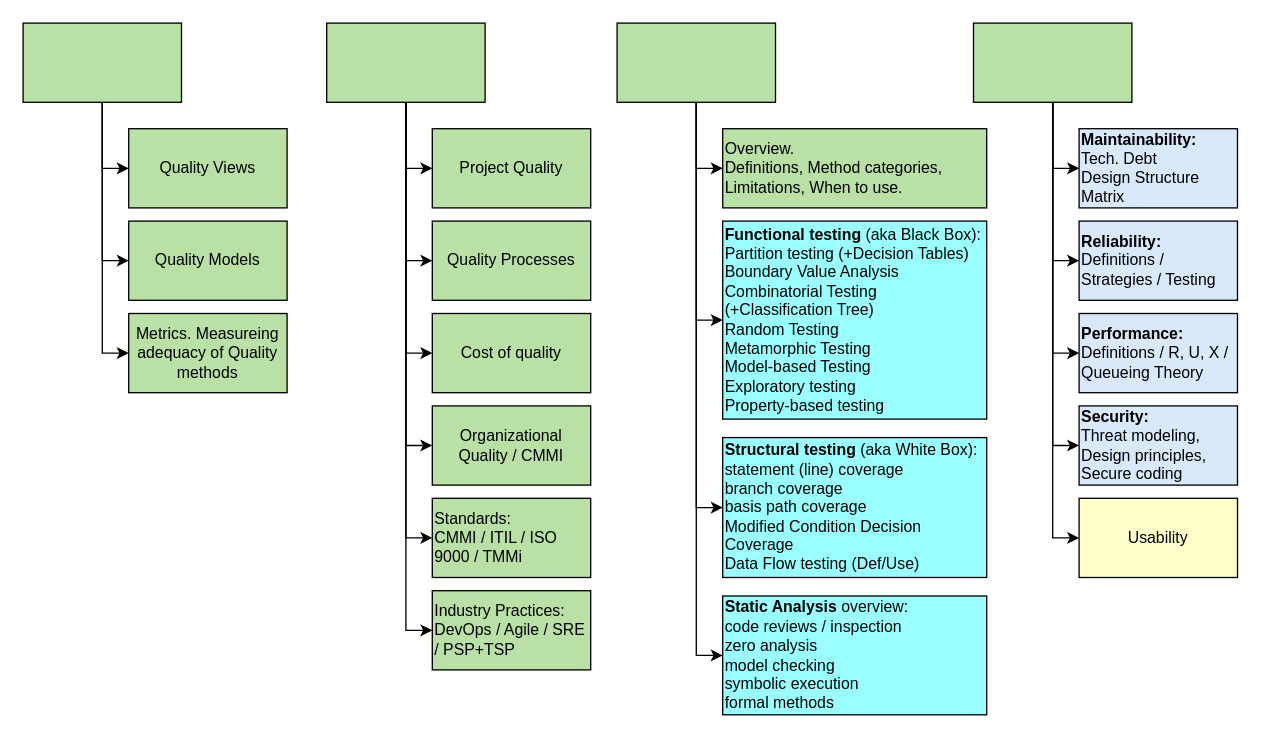
Image size: 1261x738. Some labels were removed from this diagram. Here are the shapes that lost their labels. From the top down, the centre of each, then its label:
the point at 102,62: Defining Quality
the point at 405,62: Organisation / Quality Assurance
the point at 696,62: Verification methods: basics + advanced
the point at 1052,62: Specific methods for Quality Properties
